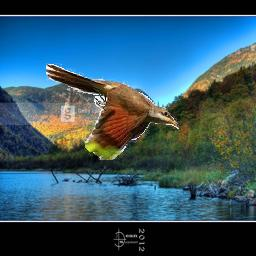Cuckoo: (47, 64, 180, 161)
